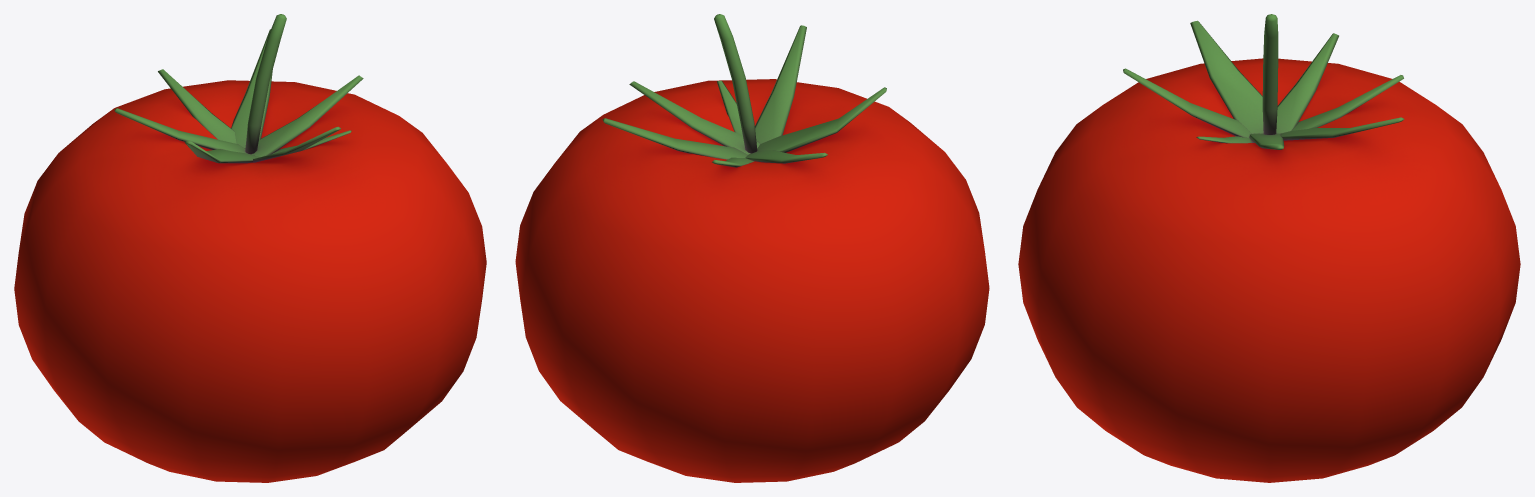
The model's file is Tomato.fbx.
3 views of the same model, side by side, from view 1: azimuth 30°, elevation 25°; view 2: azimuth 150°, elevation 25°; view 3: azimuth 270°, elevation 25° (orthographic). The views are drawn at different scales.
Parts seen in each view (by area): view 1: Tomato; view 2: Tomato; view 3: Tomato.
Boxes of the visible parts, x1,y1,x2,y2 form: Tomato: (14,14,486,482); Tomato: (515,14,989,482); Tomato: (1018,14,1520,482).
Bounding box in the file's own units: 14.08 × 13.91 × 14.08.
